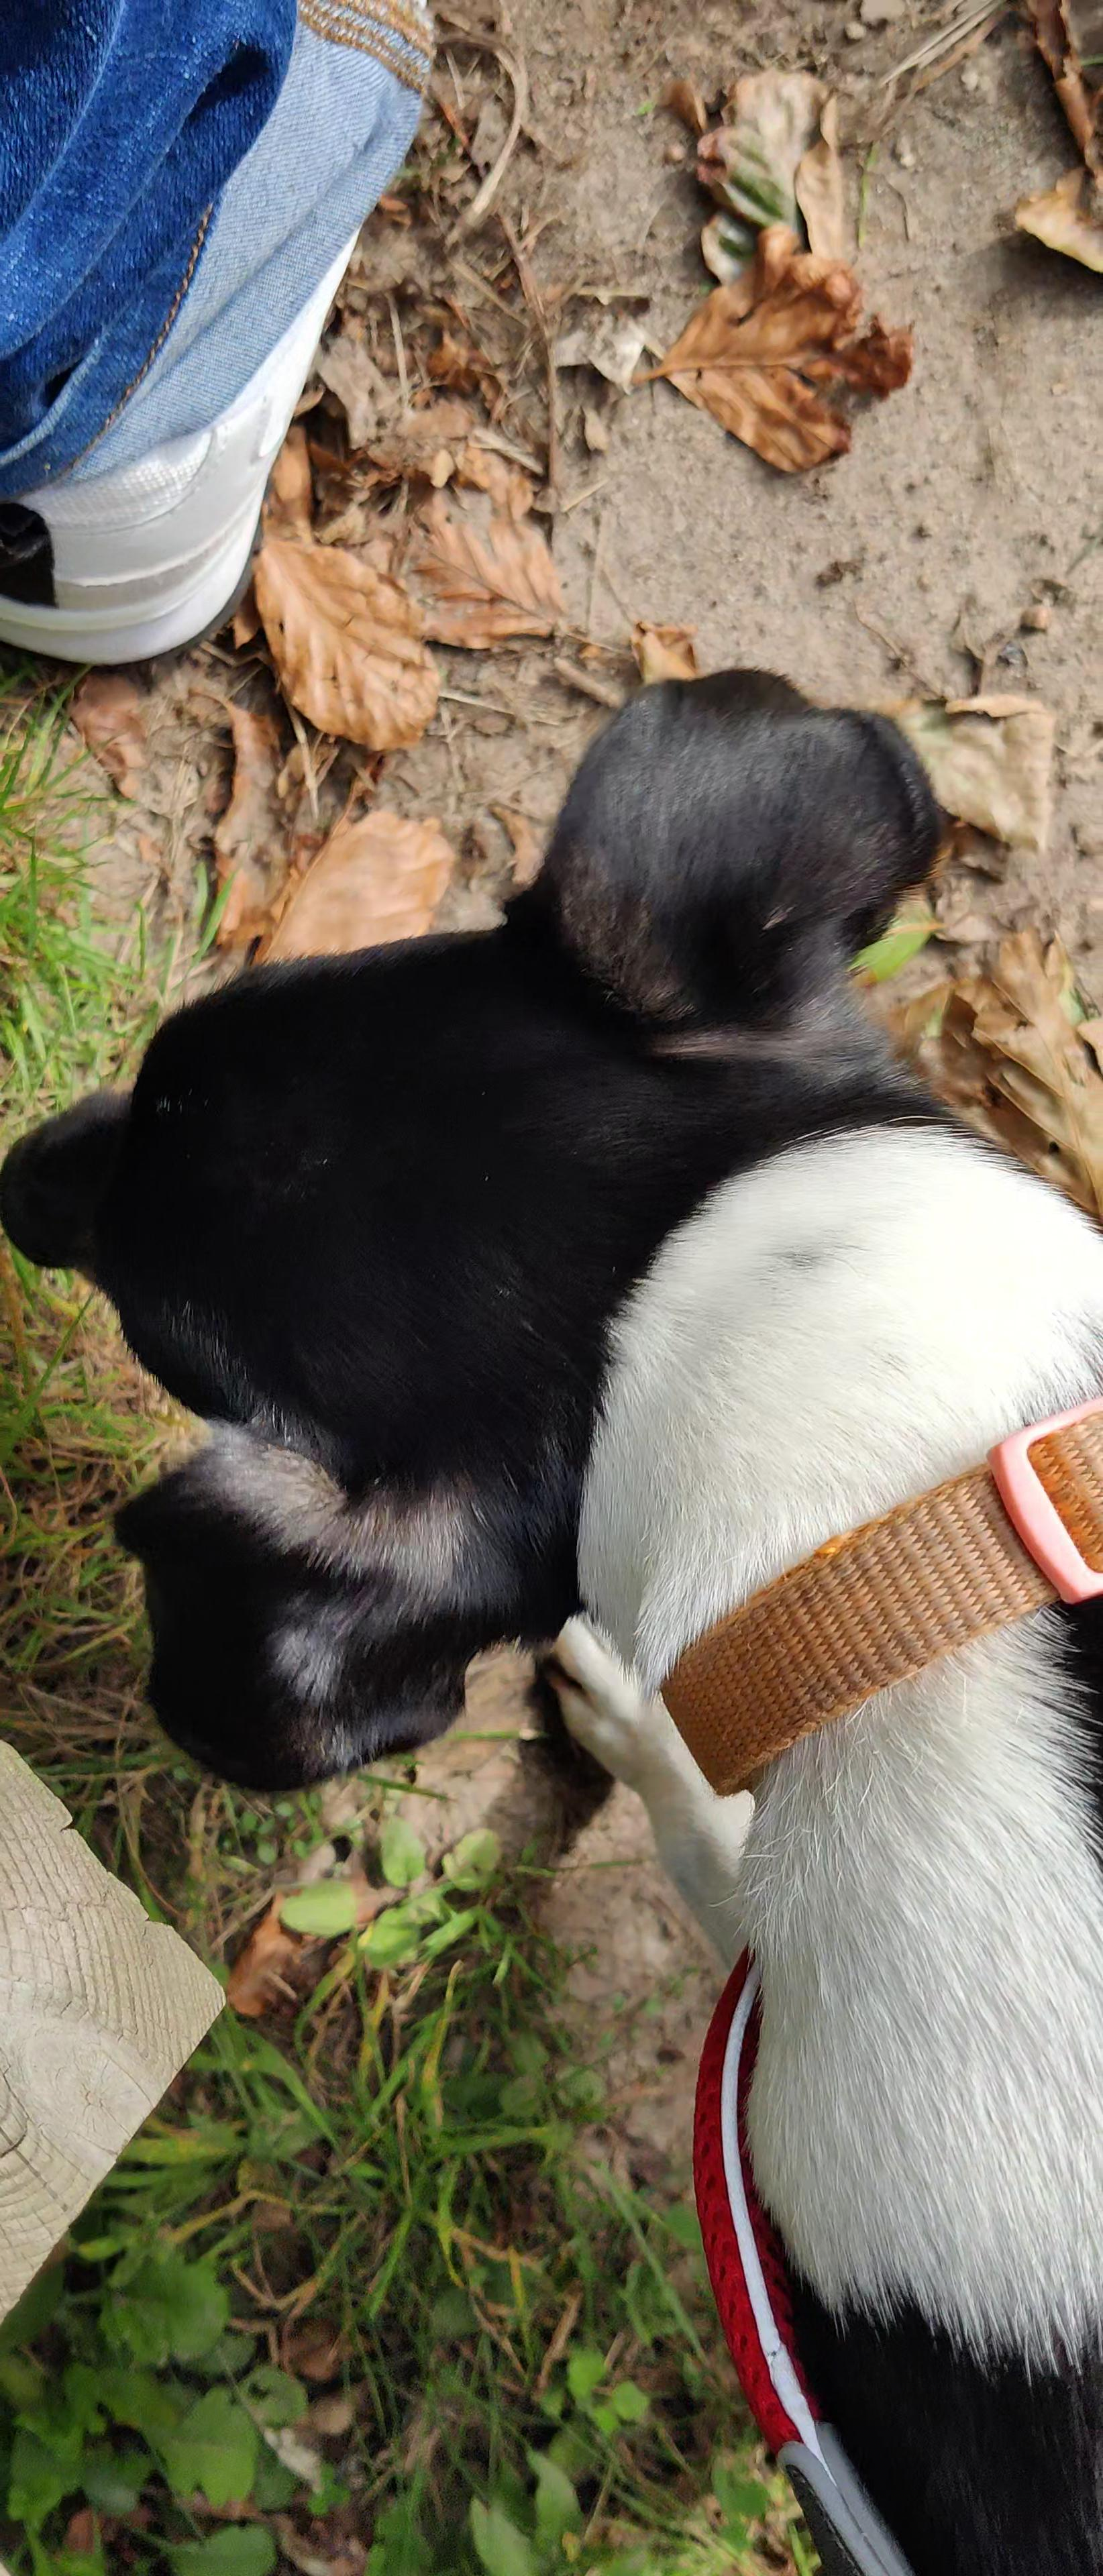Dog: (0, 652, 1103, 2576)
